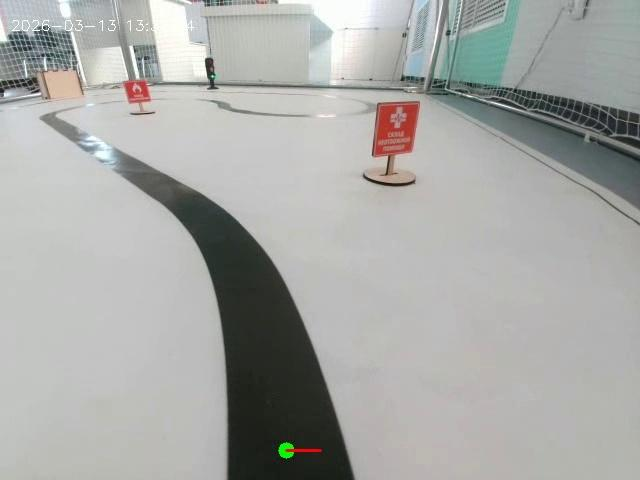fire: (118, 76, 160, 125)
medical: (359, 87, 425, 185)
